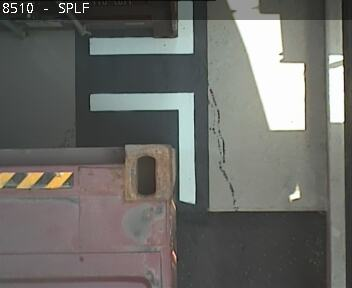groundmarker_1: (88, 1, 194, 205)
